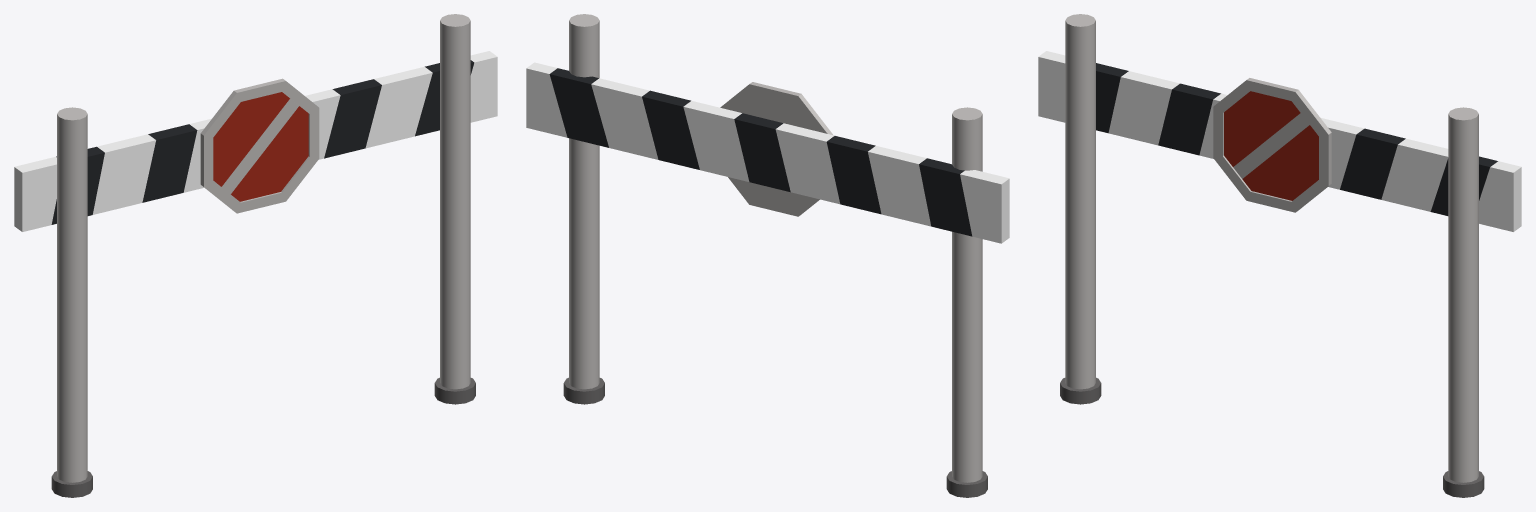
The model's file is TrafficBarrier_1.fbx.
3 views of the same model, side by side, from view 1: azimuth 30°, elevation 25°; view 2: azimuth 150°, elevation 25°; view 3: azimuth 330°, elevation 25° (orthographic).
Parts seen in each view (by area): view 1: TrafficBarrier_1; view 2: TrafficBarrier_1; view 3: TrafficBarrier_1.
Part boxes in pixels (x1=…): TrafficBarrier_1: x1=14, y1=14, x2=497, y2=497; TrafficBarrier_1: x1=526, y1=14, x2=1009, y2=497; TrafficBarrier_1: x1=1038, y1=14, x2=1521, y2=497.
Bounding box in the file's own units: 132 × 99.26 × 10.69.
